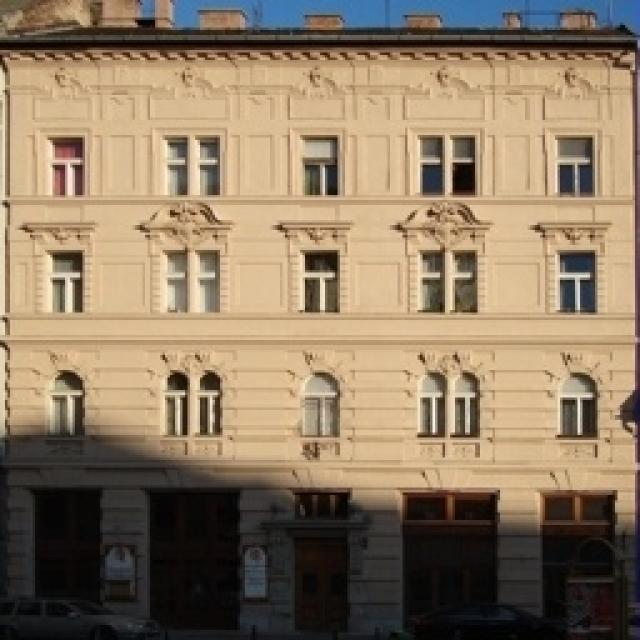building: (10, 18, 640, 622)
